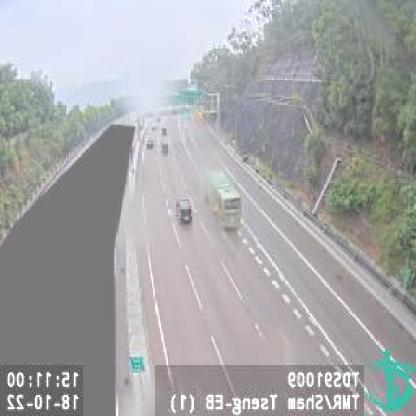Car: (175, 196, 193, 226), (162, 140, 170, 156), (146, 139, 155, 150)
Truck: (206, 167, 243, 233)
